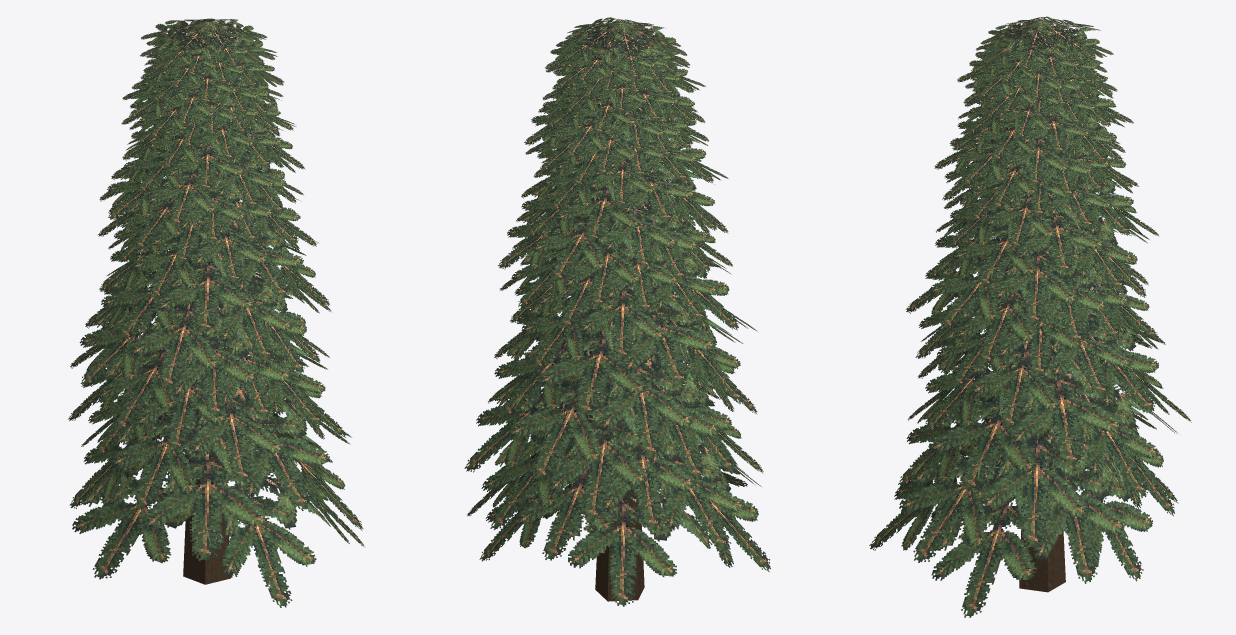
The model's file is tree.glb.
The picture shows the model from 3 angles, left to right: view 1: azimuth 30°, elevation 25°; view 2: azimuth 150°, elevation 25°; view 3: azimuth 270°, elevation 25°; orthographic projection. The views are drawn at different scales.
Parts seen in each view (by area): view 1: tree; view 2: tree; view 3: tree.
Boxes of the visible parts, x1,y1,x2,y2 form: tree: (68,18,365,607); tree: (464,17,770,606); tree: (869,16,1191,617).
Bounding box in the file's own units: 7.33 × 12.05 × 7.36.
Materials: 2 (2 with a texture image).
